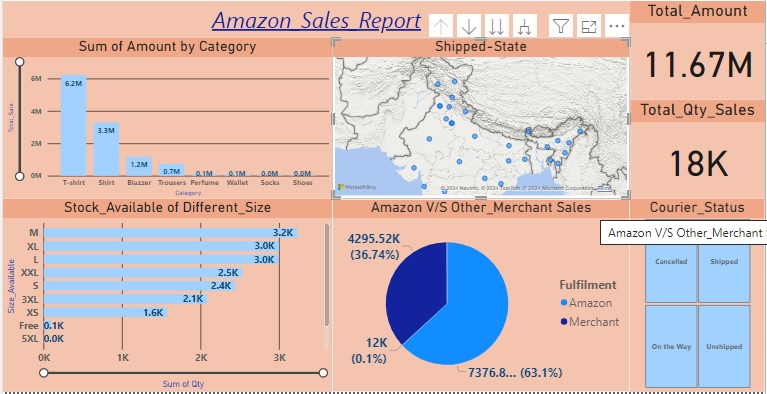

The page's visual inventory and layout, read from the dashboard file:
{"tool":"powerbi","page":{"name":"Page 1","canvas":[1280,720],"ordinal":0},"visuals":[{"type":"card","title":"Total_Amount","fields":{"Values":["Sum(Amazon Sale Report.Amount)"]},"box":[1053.2,63.8,226.8,166.3],"z":0},{"type":"card","title":"Total_Qty_Sales","fields":{"Values":["Sum(Amazon Sale Report.Qty)"]},"box":[1053.2,230.1,226.8,166.3],"z":1000},{"type":"barChart","title":"Stock_Available of Different_Size","fields":{"Y":["Sum(Amazon Sale Report.Qty)"],"Category":["Amazon Sale Report.Size"]},"box":[0,396.4,552.7,324.2],"z":2000},{"type":"map","title":"Shipped-State","fields":{"Category":["Amazon Sale Report.ship-state","Amazon Sale Report.ship-city"]},"box":[552.7,126,500.6,270.4],"z":3000},{"type":"pieChart","title":"Amazon V/S Other_Merchant Sales","fields":{"Category":["Amazon Sale Report.Fulfilment"],"Y":["Sum(Amazon Sale Report.Amount)","Sum(Amazon Sale Report.Qty)"]},"box":[552.7,396.4,500.6,324.2],"z":4000},{"type":"columnChart","fields":{"Category":["Amazon Sale Report.Category"],"Y":["Sum(Amazon Sale Report.Amount)"]},"box":[0,126,552.7,270.4],"z":5000},{"type":"slicer","title":"Courier_Status","fields":{"Values":["Amazon Sale Report.Courier Status"]},"box":[1054,396,226,324],"z":6000},{"type":"textbox","box":[0,63.8,1053.2,62.2],"z":7000}]}

Visuals, with their boxes in screenshot pixels (x1, y1, x2, y2):
"Total_Amount" card: [left=598, top=18, right=720, bottom=108]
"Total_Qty_Sales" card: [left=598, top=108, right=720, bottom=198]
"Stock_Available of Different_Size" barChart: [left=30, top=198, right=328, bottom=372]
"Shipped-State" map: [left=328, top=52, right=598, bottom=198]
"Amazon V/S Other_Merchant Sales" pieChart: [left=328, top=198, right=598, bottom=372]
columnChart - Amazon Sale Report.Category x Sum(Amazon Sale Report.Amount): [left=30, top=52, right=328, bottom=198]
"Courier_Status" slicer: [left=598, top=197, right=720, bottom=372]
textbox: [left=30, top=18, right=598, bottom=52]
